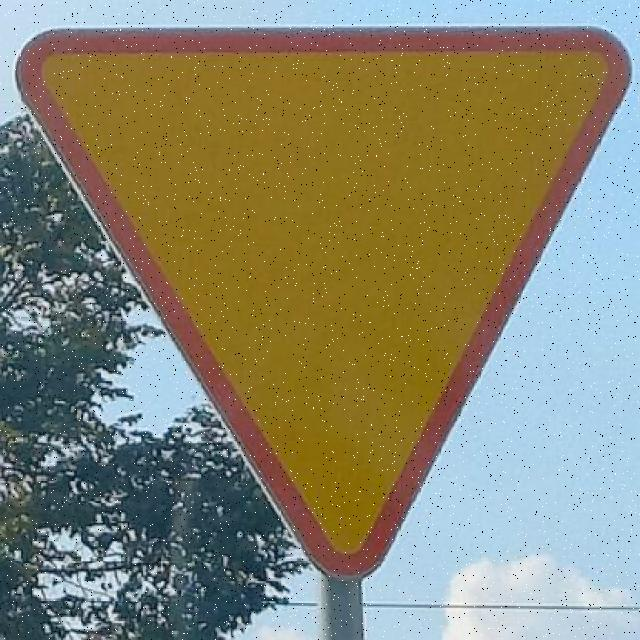Ustap pierwszenstwa: (11, 24, 634, 582)
